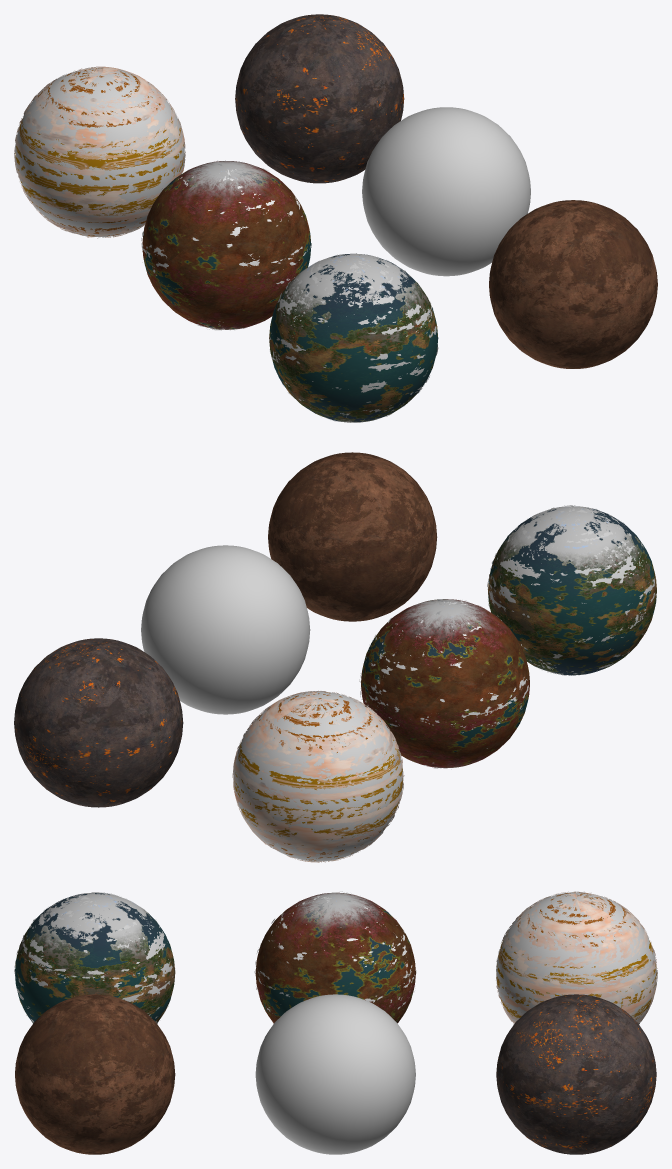
File: Planets.fbx
3 views of the same model, one above another, from view 1: azimuth 30°, elevation 25°; view 2: azimuth 150°, elevation 25°; view 3: azimuth 270°, elevation 25° (orthographic). The views are drawn at different scales.
Parts seen in each view (by area): view 1: planet_barren, planet_frozen, planet_lava, planet_smac, planet_continental, planet_gas_cloud_01, planet_gas_cloud_02, planet_gas, planet_continental_clouds, planet_smac_cloud; view 2: planet_lava, planet_frozen, planet_barren, planet_smac, planet_continental, planet_gas_cloud_02, planet_gas_cloud_01, planet_gas, planet_continental_clouds, planet_smac_cloud; view 3: planet_lava, planet_frozen, planet_barren, planet_smac, planet_continental, planet_gas_cloud_02, planet_gas_cloud_01, planet_gas, planet_continental_clouds, planet_smac_cloud.
Part boxes in pixels (<box>): planet_barren: <box>489,200,657,368</box>; planet_frozen: <box>362,107,530,276</box>; planet_lava: <box>235,14,404,183</box>; planet_smac: <box>142,161,311,329</box>; planet_continental: <box>269,253,438,422</box>; planet_gas_cloud_01: <box>15,67,184,237</box>; planet_gas_cloud_02: <box>14,66,185,238</box>; planet_gas: <box>15,68,184,236</box>; planet_continental_clouds: <box>269,253,438,422</box>; planet_smac_cloud: <box>141,160,311,330</box>; planet_lava: <box>14,638,183,807</box>; planet_frozen: <box>141,545,310,714</box>; planet_barren: <box>268,452,437,621</box>; planet_smac: <box>361,599,529,768</box>; planet_continental: <box>488,506,656,675</box>; planet_gas_cloud_02: <box>232,690,404,862</box>; planet_gas_cloud_01: <box>233,691,403,861</box>; planet_gas: <box>234,692,402,860</box>; planet_continental_clouds: <box>487,505,656,675</box>; planet_smac_cloud: <box>359,600,528,769</box>; planet_lava: <box>496,994,656,1154</box>; planet_frozen: <box>255,994,415,1154</box>; planet_barren: <box>15,994,175,1154</box>; planet_smac: <box>255,892,415,1023</box>; planet_continental: <box>15,892,175,1023</box>; planet_gas_cloud_02: <box>496,891,657,1024</box>; planet_gas_cloud_01: <box>496,892,656,1023</box>; planet_gas: <box>496,892,656,1019</box>; planet_continental_clouds: <box>14,892,175,1023</box>; planet_smac_cloud: <box>254,891,416,1013</box>.
Bounding box in the file's own units: 502 × 204 × 803.
